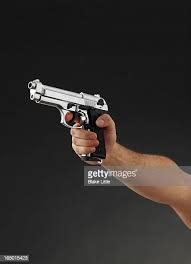gun: (27, 77, 117, 166)
